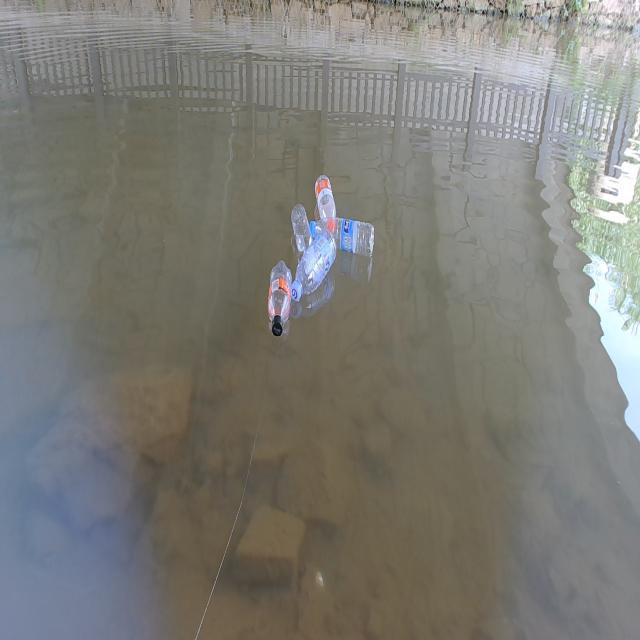bottle: (284, 223, 346, 309), (306, 211, 388, 265), (304, 170, 351, 230), (263, 261, 296, 340), (280, 205, 316, 249)
